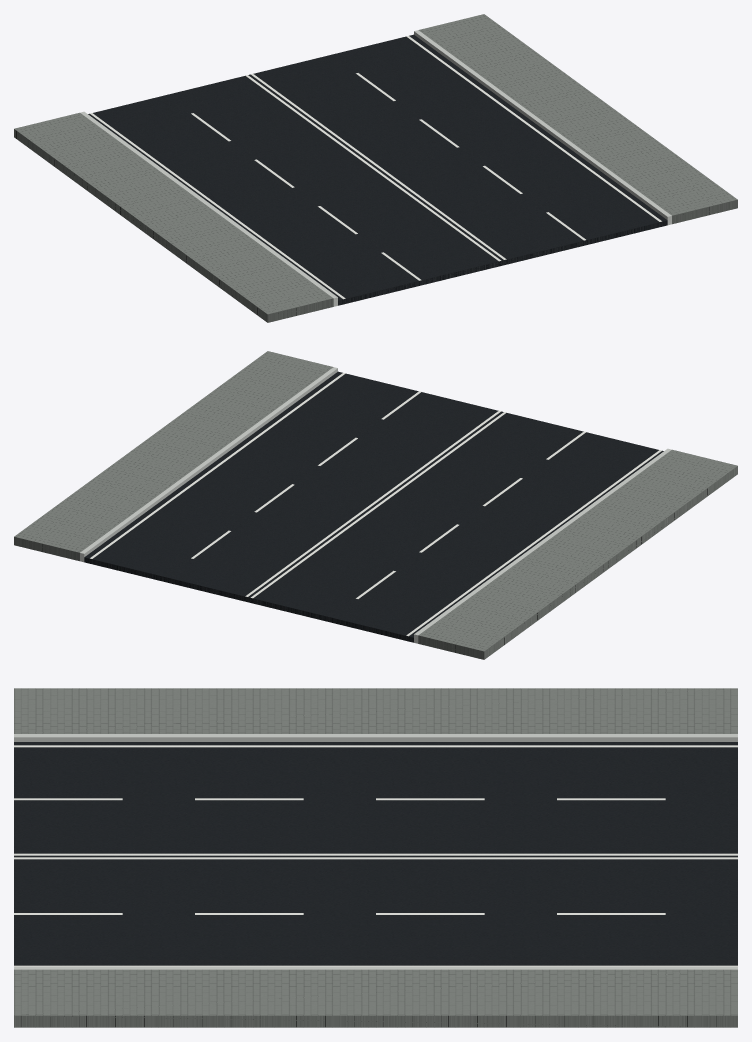
The model's file is RK2_Road_Urban4_20m.fbx.
3 renders of one model, top to bottom at view 1: azimuth 30°, elevation 25°; view 2: azimuth 150°, elevation 25°; view 3: azimuth 270°, elevation 25°, orthographic. The views are drawn at different scales.
Visible parts, largest first — view 1: COL_Asphalt, COL_Paving, Markings_White, COL_Concrete, Curb_Concrete; view 2: COL_Asphalt, COL_Paving, Markings_White, Curb_Concrete, COL_Concrete; view 3: COL_Asphalt, COL_Paving, Markings_White, COL_Concrete, Curb_Concrete.
Boxes of the visible parts, bbox=[...] form: COL_Asphalt: bbox=[88, 34, 667, 305]; COL_Paving: bbox=[14, 14, 737, 322]; Markings_White: bbox=[90, 35, 661, 299]; COL_Concrete: bbox=[80, 30, 671, 306]; Curb_Concrete: bbox=[80, 31, 669, 296]; COL_Asphalt: bbox=[84, 371, 663, 642]; COL_Paving: bbox=[14, 351, 737, 659]; Markings_White: bbox=[90, 372, 661, 636]; Curb_Concrete: bbox=[83, 368, 671, 633]; COL_Concrete: bbox=[80, 367, 670, 643]; COL_Asphalt: bbox=[14, 742, 737, 965]; COL_Paving: bbox=[14, 688, 737, 1027]; Markings_White: bbox=[14, 745, 737, 966]; COL_Concrete: bbox=[14, 734, 737, 969]; Curb_Concrete: bbox=[14, 734, 737, 969].
Size of the model in its own units: 2140 by 37 by 2000.
